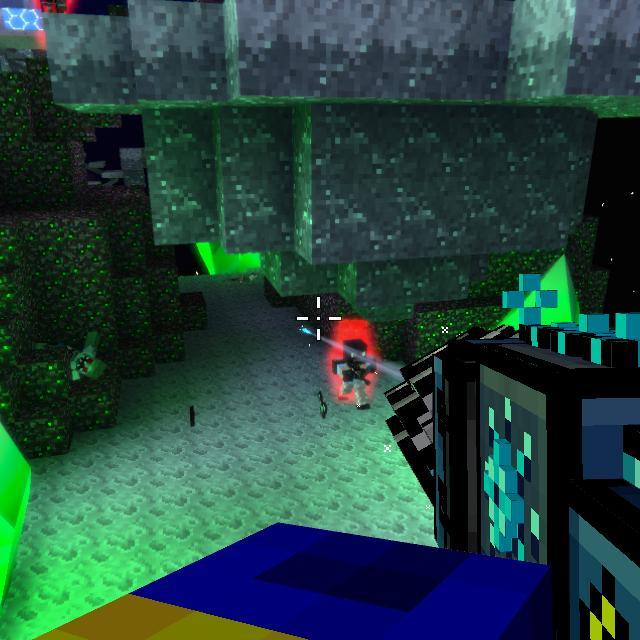Enemy: (332, 338, 377, 410), (40, 0, 67, 13)
